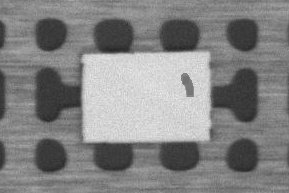DIE_INK: (178, 72, 196, 99)
